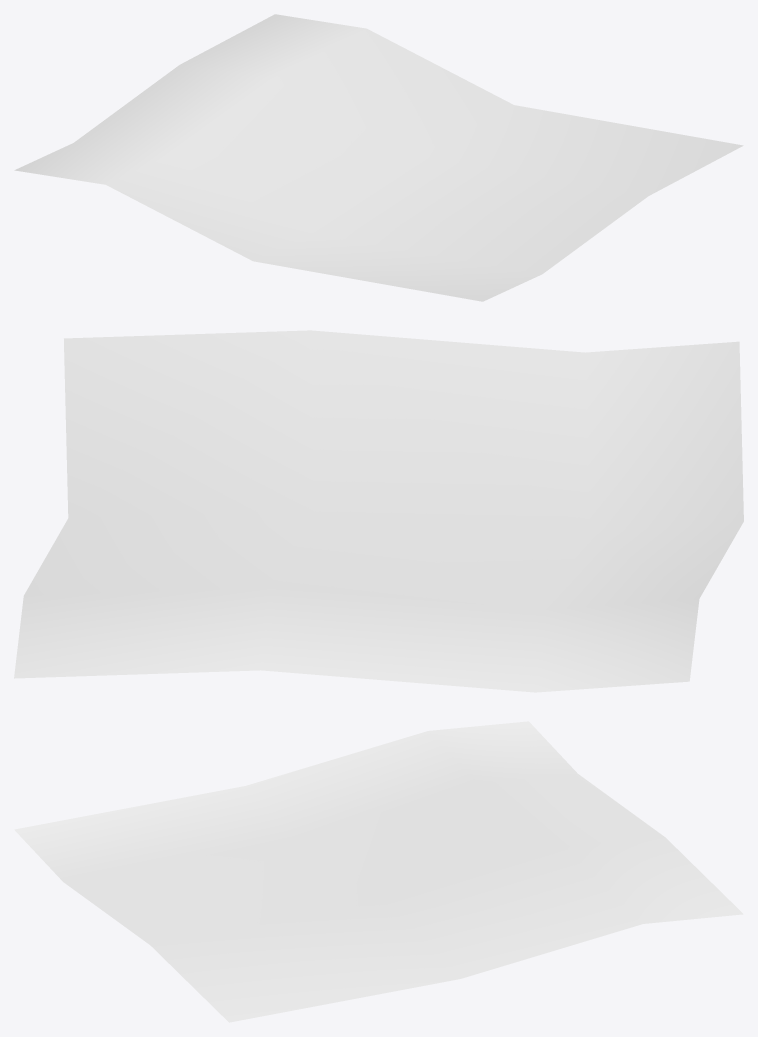
File: mgla.fbx
3 views of the same model, one above another, from view 1: azimuth 30°, elevation 25°; view 2: azimuth 150°, elevation 25°; view 3: azimuth 270°, elevation 25° (orthographic). The views are drawn at different scales.
Parts seen in each view (by area): view 1: pPlane9; view 2: pPlane9; view 3: pPlane9.
Part boxes in pixels (bbox=[...]): pPlane9: bbox=[14, 14, 743, 301]; pPlane9: bbox=[14, 330, 743, 692]; pPlane9: bbox=[14, 721, 743, 1022].
Bounding box in the file's own units: 17.65 × 1.04 × 18.71.
1 material, 1 textured.
